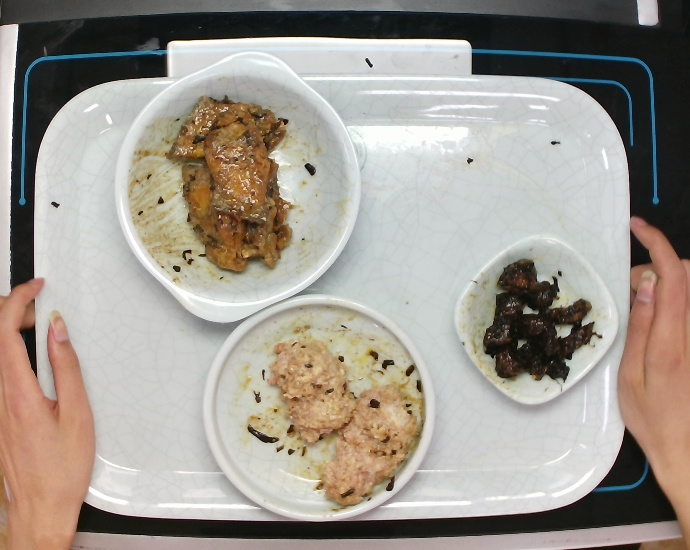JYsf-Shuang_Er_Wan: (109, 44, 366, 326)
JYsf-Si_Fang_Die: (449, 229, 622, 409)
JYsf-Xiao_Yuan_Pan: (196, 290, 442, 527)
